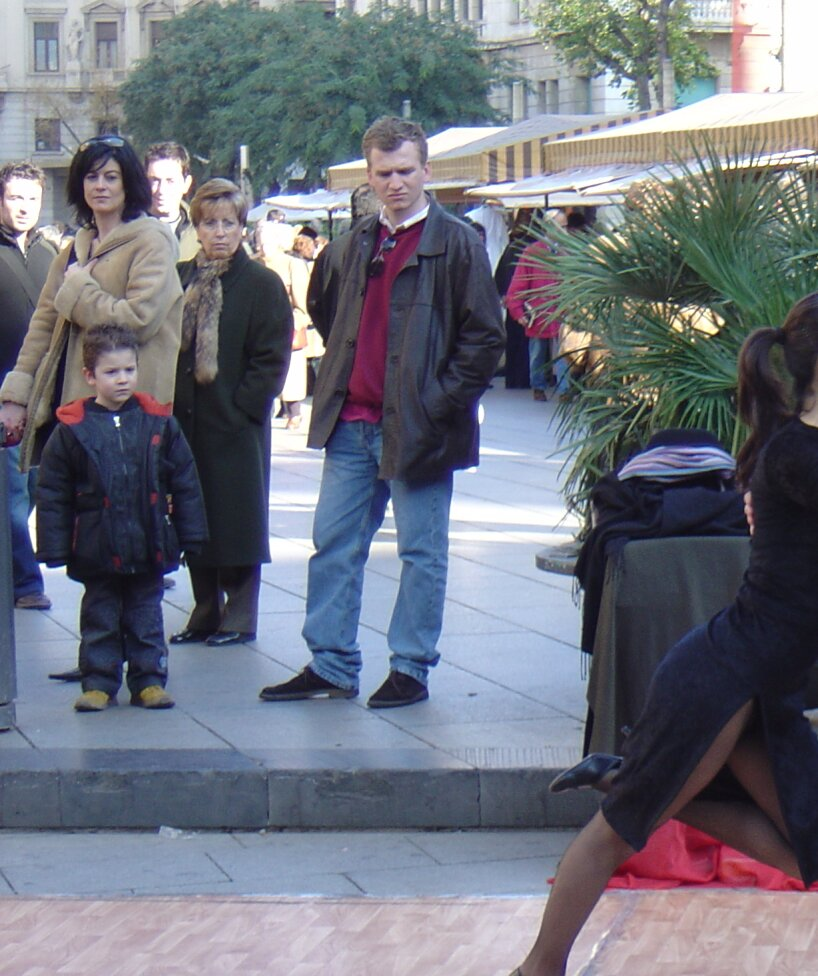person: (529, 289, 818, 976), (262, 112, 500, 706), (37, 323, 197, 720), (168, 173, 286, 654), (26, 131, 193, 441), (1, 152, 60, 619), (135, 137, 212, 264)
